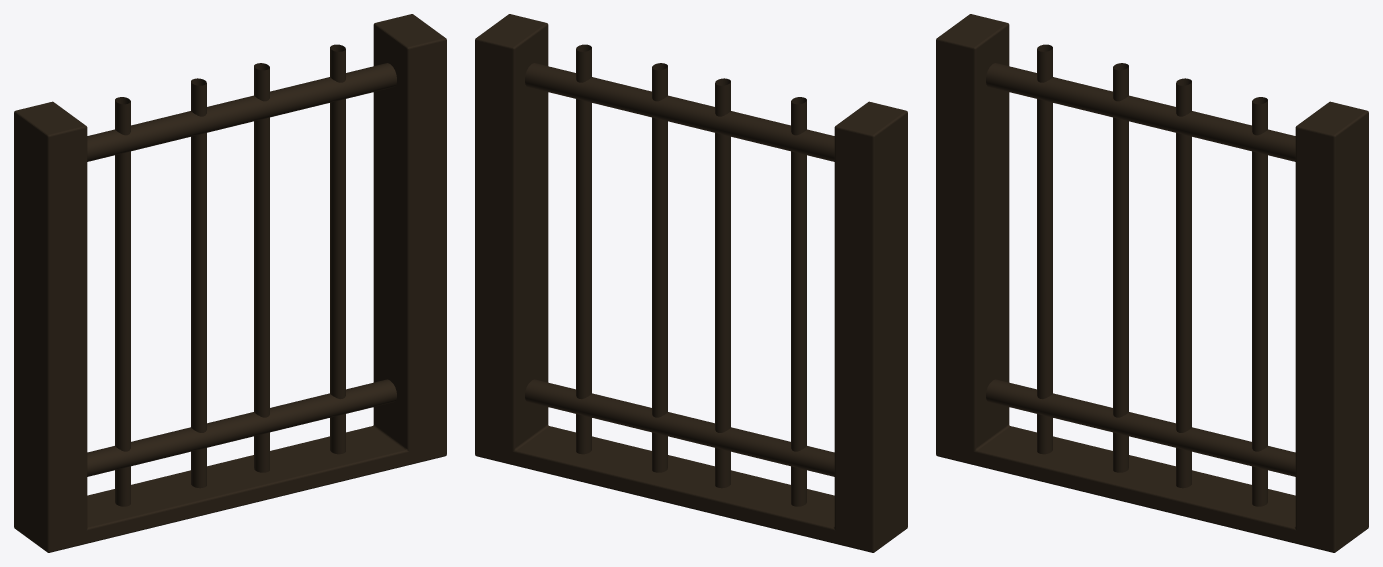
Rendered from GrataColBot.fbx.
3 renders of one model, left to right at view 1: azimuth 30°, elevation 25°; view 2: azimuth 150°, elevation 25°; view 3: azimuth 330°, elevation 25°, orthographic.
Visible parts, largest first — view 1: Cube, Cube.002, GrataColBot; view 2: Cube, Cube.002, GrataColBot; view 3: Cube, Cube.002, GrataColBot.
Part boxes in pixels (<box>): Cube: <box>14,14,446,552</box>; Cube.002: <box>115,44,345,506</box>; GrataColBot: <box>87,63,396,476</box>; Cube: <box>475,14,907,552</box>; Cube.002: <box>576,44,806,506</box>; GrataColBot: <box>525,63,834,476</box>; Cube: <box>936,14,1368,552</box>; Cube.002: <box>1037,44,1267,506</box>; GrataColBot: <box>986,63,1295,476</box>.
Size of the model in its own units: 200 by 200 by 30.
